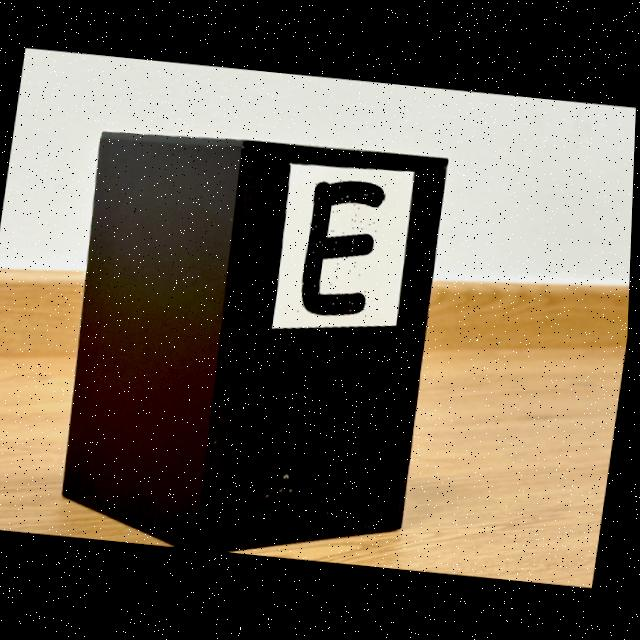E: (304, 181, 386, 316)
